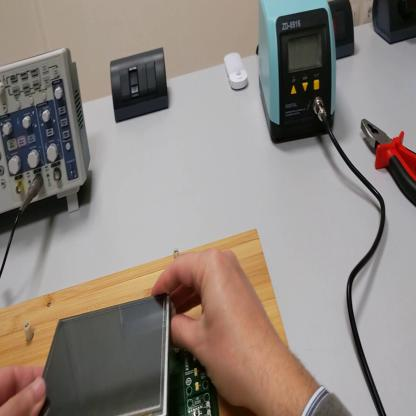hand: (152, 245, 282, 407), (2, 363, 47, 415)
low voltage board: (40, 290, 222, 416)
oscilloscope: (2, 43, 92, 231)
pliers: (362, 118, 416, 207)
socket: (373, 3, 416, 49), (331, 1, 356, 61)
welder station: (260, 3, 338, 143)
working area: (3, 228, 289, 415)
